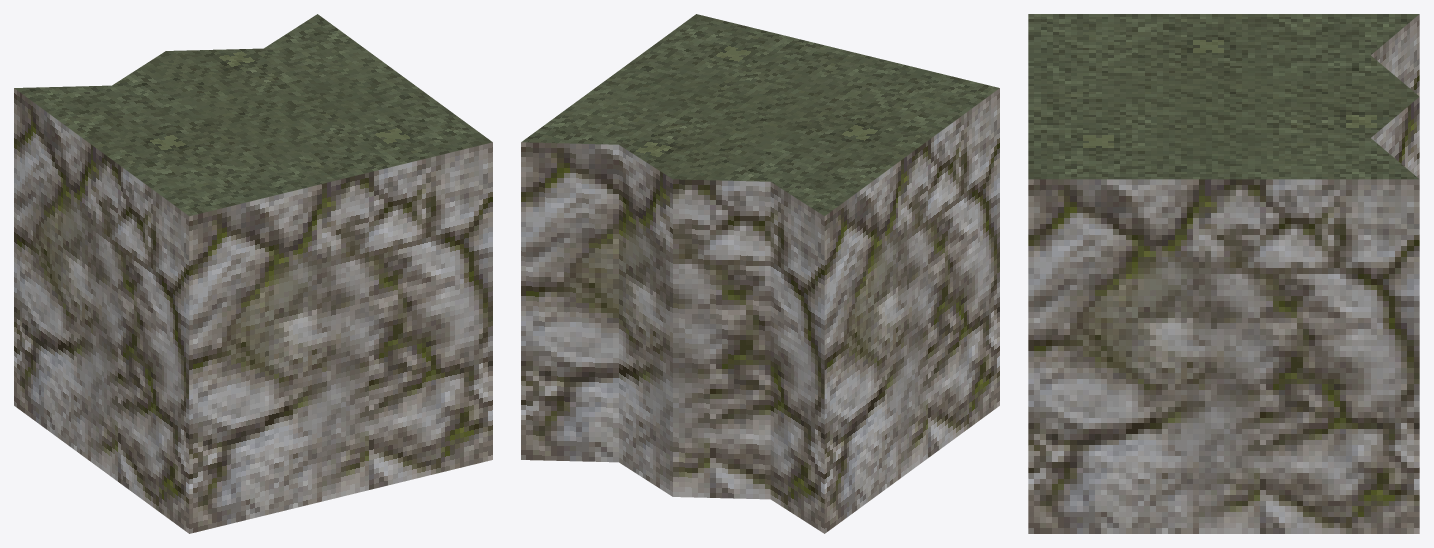
The model's file is cliff-side.opt.glb.
3 renders of one model, left to right at view 1: azimuth 30°, elevation 25°; view 2: azimuth 150°, elevation 25°; view 3: azimuth 270°, elevation 25°, orthographic. The views are drawn at different scales.
Size of the model in its own units: 1 by 1 by 1.
Materials: 2 (2 with a texture image).
